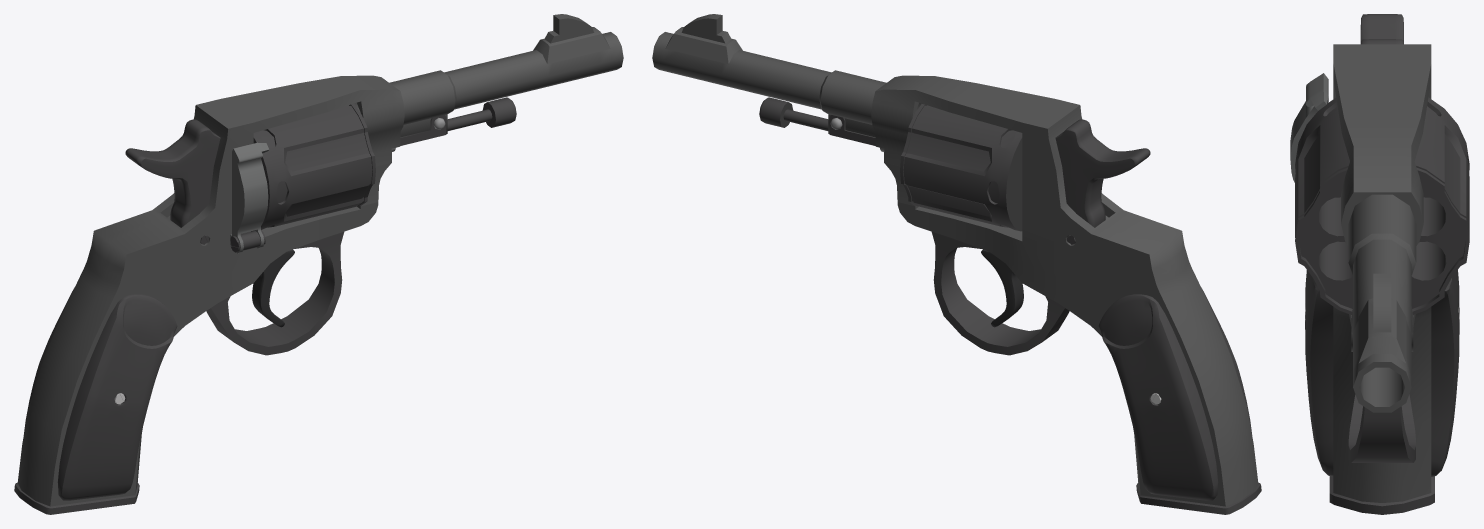
Rendered from Nagant_M1895_Mesh.fbx.
3 renders of one model, left to right at view 1: azimuth 30°, elevation 25°; view 2: azimuth 150°, elevation 25°; view 3: azimuth 270°, elevation 25°, orthographic. The views are drawn at different scales.
Visible parts, largest first — view 1: Nagant_M1895; view 2: Nagant_M1895; view 3: Nagant_M1895.
Boxes of the visible parts, x1,y1,x2,y2 form: Nagant_M1895: (14, 14, 623, 514); Nagant_M1895: (652, 14, 1261, 514); Nagant_M1895: (1290, 14, 1469, 514).
Bounding box in the file's own units: 0.235 × 0.1402 × 0.0413.
